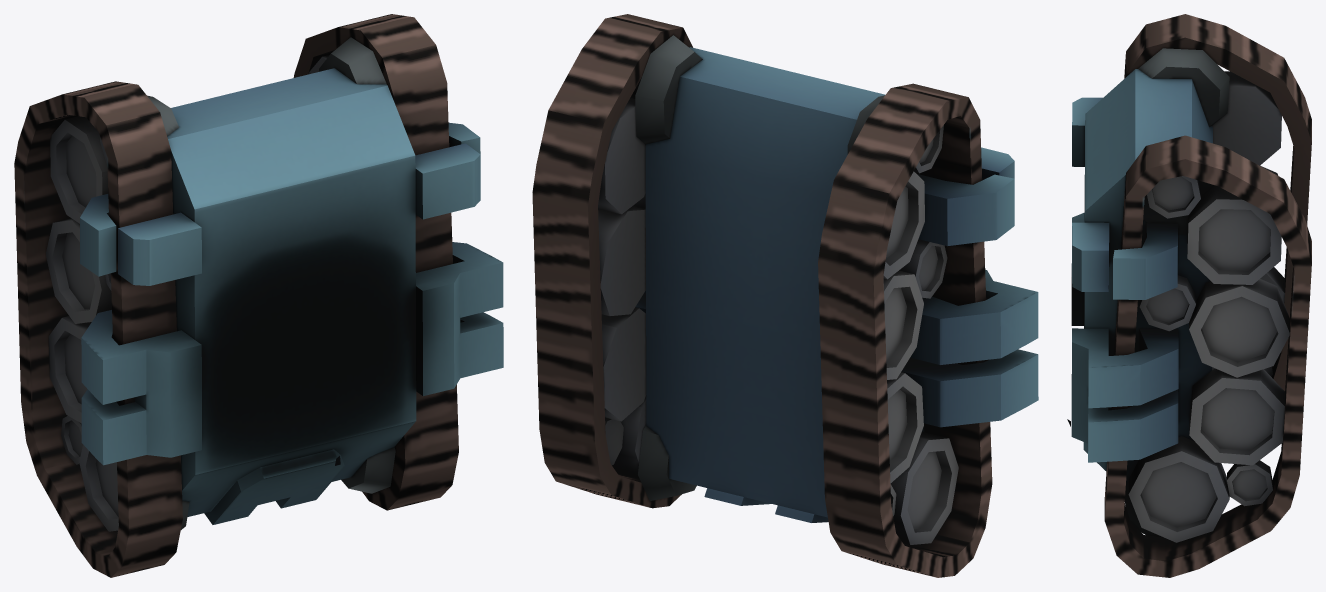
Rendered from Tank_body.obj.
The picture shows the model from 3 angles, left to right: view 1: azimuth 30°, elevation 25°; view 2: azimuth 150°, elevation 25°; view 3: azimuth 270°, elevation 25°; orthographic projection. The views are drawn at different scales.
Parts seen in each view (by area): view 1: tank_Cube.000_Cube.230; view 2: tank_Cube.000_Cube.230; view 3: tank_Cube.000_Cube.230.
Part boxes in pixels (box(x1,y1,x2,y2)): tank_Cube.000_Cube.230: box(14, 14, 503, 577); tank_Cube.000_Cube.230: box(532, 14, 1038, 577); tank_Cube.000_Cube.230: box(1067, 14, 1311, 577).
Bounding box in the file's own units: 3.21 × 3.56 × 1.88.
1 material, 1 textured.
